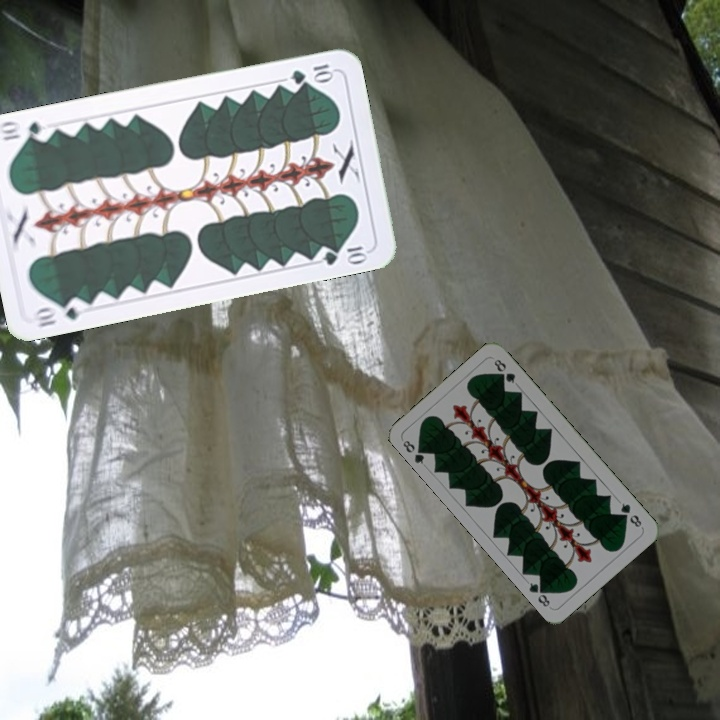G10: (30, 294, 90, 330), (287, 60, 337, 87)
G8: (399, 436, 429, 467), (616, 499, 644, 530)
